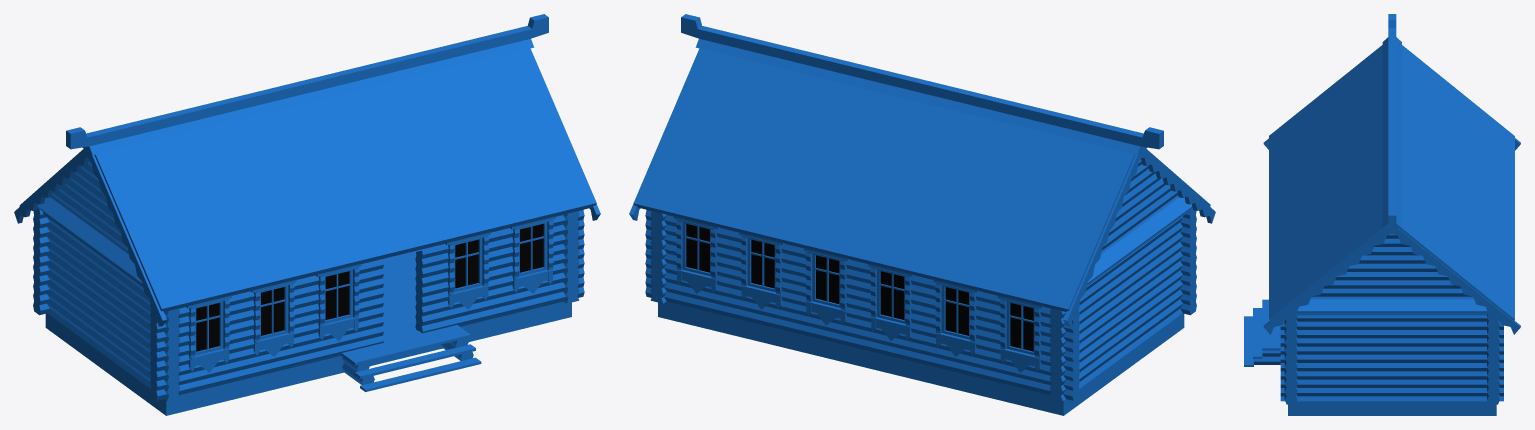
Rendered from SM_school.fbx.
3 renders of one model, left to right at view 1: azimuth 30°, elevation 25°; view 2: azimuth 150°, elevation 25°; view 3: azimuth 270°, elevation 25°, orthographic. The views are drawn at different scales.
Visible parts, largest first — view 1: Cloner; view 2: Cloner; view 3: Cloner.
Boxes of the visible parts, box(x1,y1,x2,y2) form: Cloner: box(14, 14, 600, 415); Cloner: box(629, 14, 1215, 415); Cloner: box(1244, 14, 1520, 415).
Bounding box in the file's own units: 1107 × 550 × 642.
